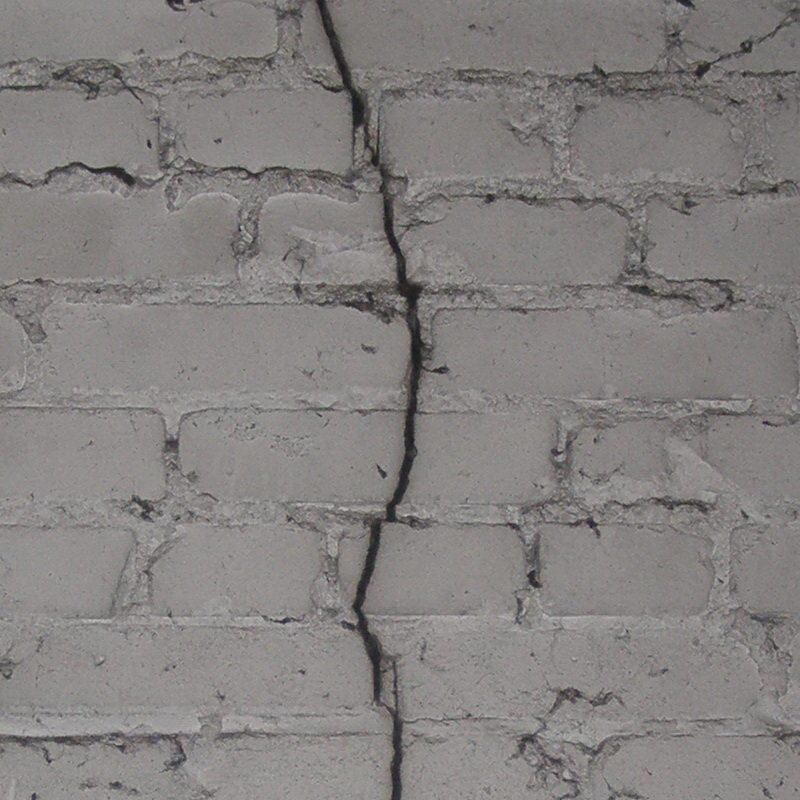pothole: (352, 189, 424, 799), (309, 0, 381, 167)
